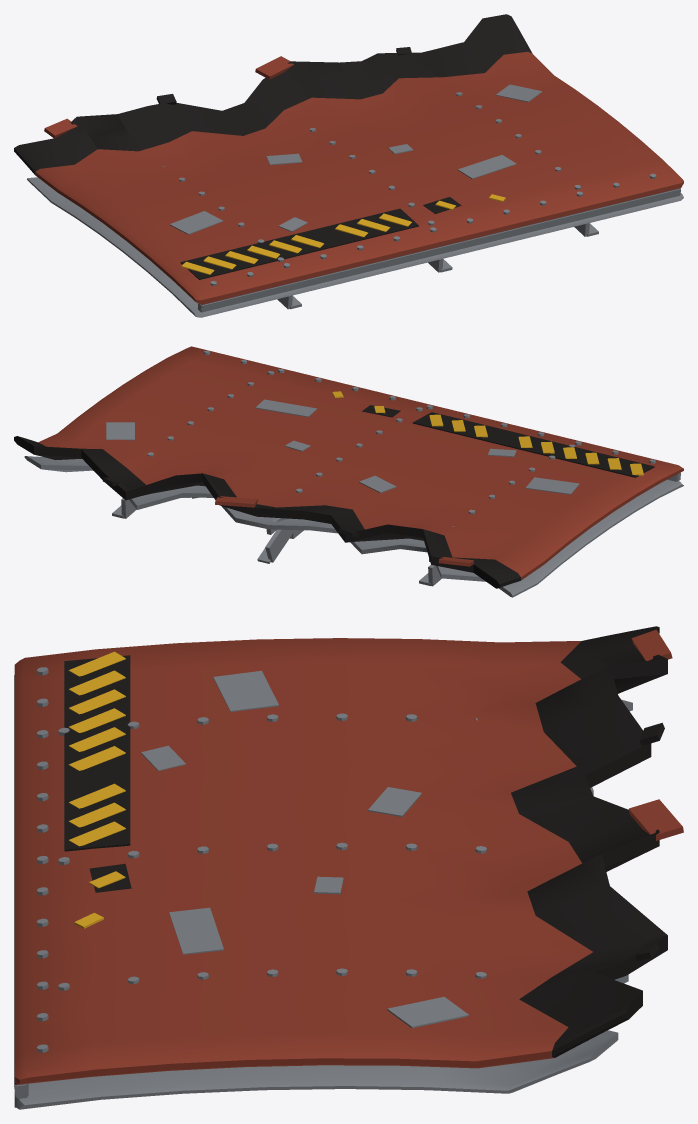
File: hull_plate.glb
3 renders of one model, top to bottom at view 1: azimuth 30°, elevation 25°; view 2: azimuth 150°, elevation 25°; view 3: azimuth 270°, elevation 25°, orthographic. The views are drawn at different scales.
Parts seen in each view (by area): view 1: hull_plate_union_rust_paint, hull_plate_scorched, hull_plate_bare_steel, hull_plate_hazard_yellow; view 2: hull_plate_union_rust_paint, hull_plate_bare_steel, hull_plate_scorched, hull_plate_hazard_yellow; view 3: hull_plate_union_rust_paint, hull_plate_scorched, hull_plate_bare_steel, hull_plate_hazard_yellow.
Boxes of the visible parts, x1,y1,x2,y2 form: hull_plate_union_rust_paint: [35, 51, 683, 304]; hull_plate_scorched: [14, 14, 532, 279]; hull_plate_bare_steel: [27, 84, 683, 317]; hull_plate_hazard_yellow: [181, 194, 505, 274]; hull_plate_union_rust_paint: [38, 346, 683, 580]; hull_plate_bare_steel: [24, 350, 683, 597]; hull_plate_scorched: [14, 405, 654, 588]; hull_plate_hazard_yellow: [332, 391, 643, 475]; hull_plate_union_rust_paint: [14, 629, 683, 1084]; hull_plate_scorched: [64, 626, 667, 1057]; hull_plate_bare_steel: [14, 667, 632, 1109]; hull_plate_hazard_yellow: [68, 651, 125, 928].
Size of the model in its own units: 6 by 0.9913 by 4.05.
